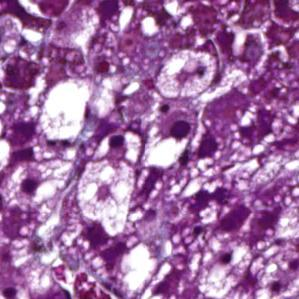ballooning: (75, 158, 138, 239), (1, 155, 79, 214), (153, 47, 219, 103), (197, 232, 253, 297)
